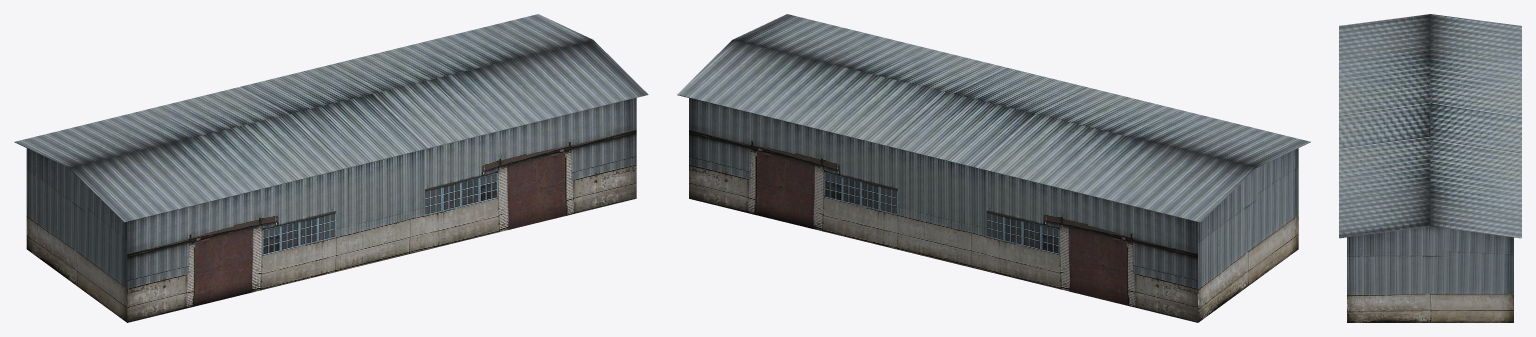
Rendered from d_sclad_22.FBX.
3 views of the same model, side by side, from view 1: azimuth 30°, elevation 25°; view 2: azimuth 150°, elevation 25°; view 3: azimuth 270°, elevation 25° (orthographic). The views are drawn at different scales.
Parts seen in each view (by area): view 1: d_sclad_22; view 2: d_sclad_22; view 3: d_sclad_22.
Part boxes in pixels (x1=…): d_sclad_22: x1=14, y1=14, x2=648, y2=322; d_sclad_22: x1=677, y1=14, x2=1310, y2=322; d_sclad_22: x1=1339, y1=14, x2=1521, y2=322.
Size of the model in its own units: 43.15 by 15.7 by 9.46.
